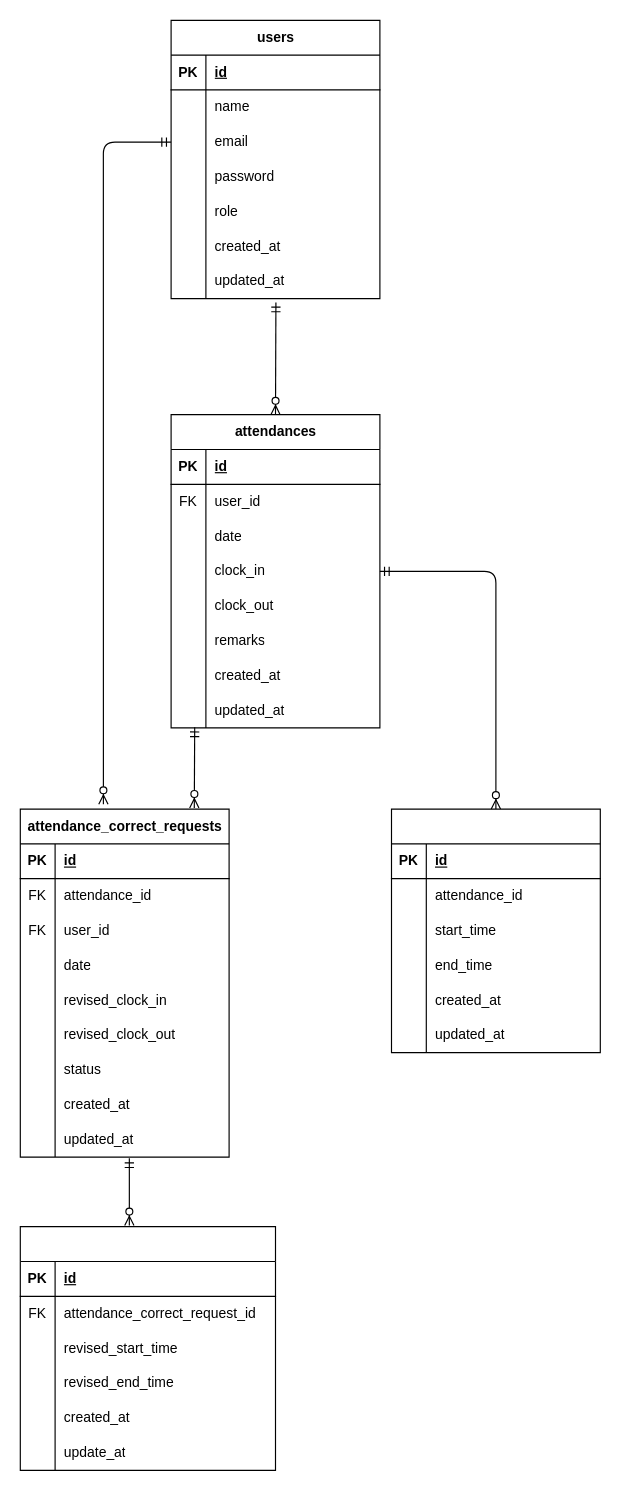
The diagram is 621 pixels wide and 1491 high, and some of its shapes have lost their labels. Each missing label, with the box of its shape:
rest_correct_requests: (19, 1226, 276, 1470)
rests: (390, 808, 600, 1053)
